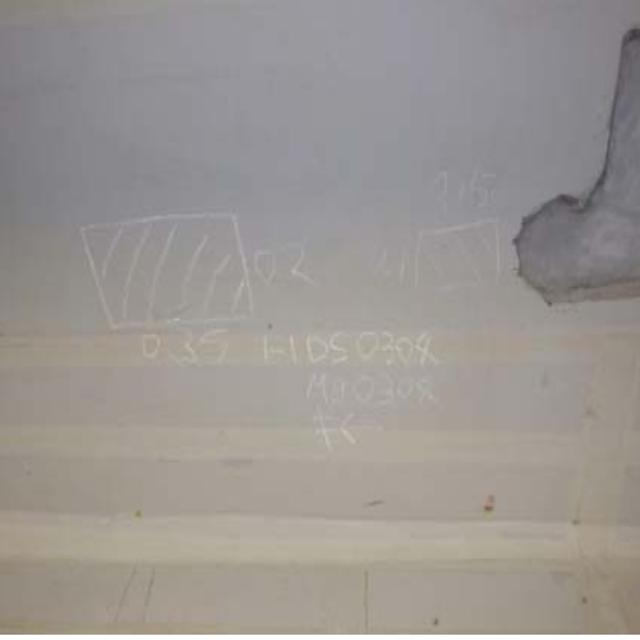spalling: (514, 28, 640, 306)
